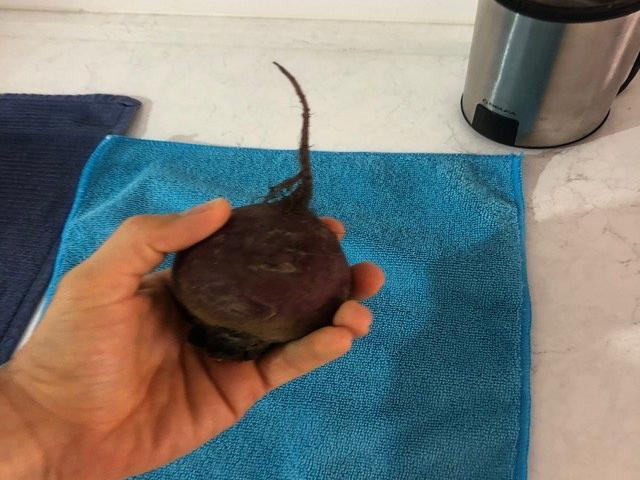beet: (171, 62, 352, 362)
